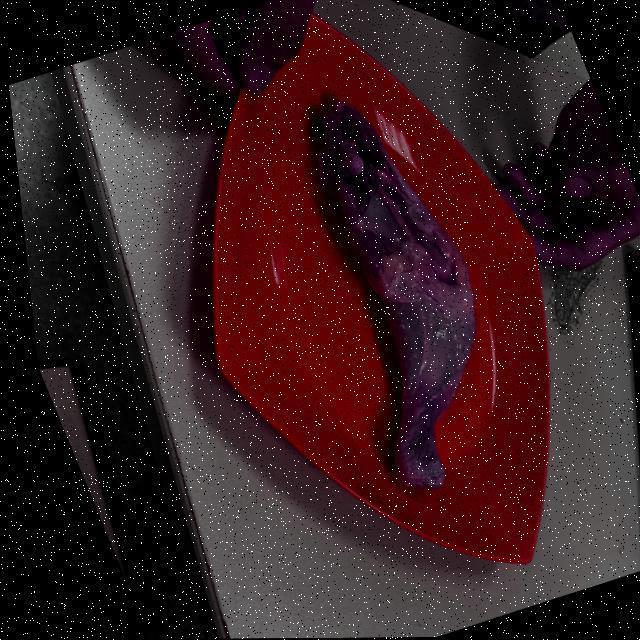quater: (304, 94, 478, 512)
